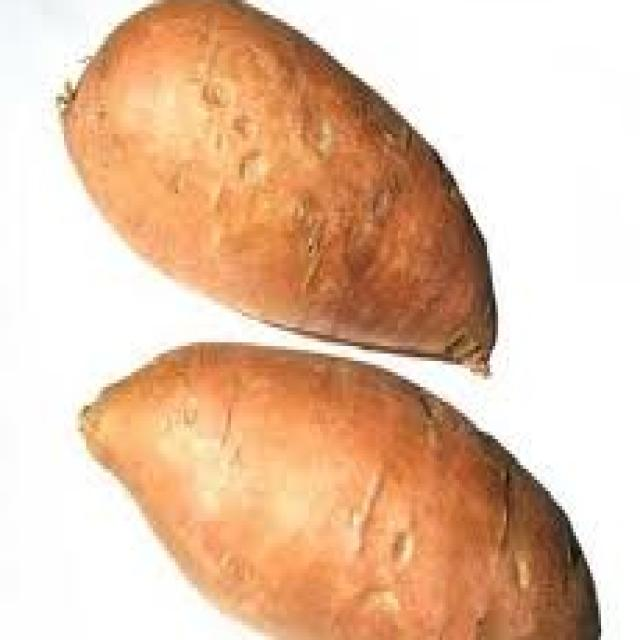sweet potato: (53, 0, 618, 640)
